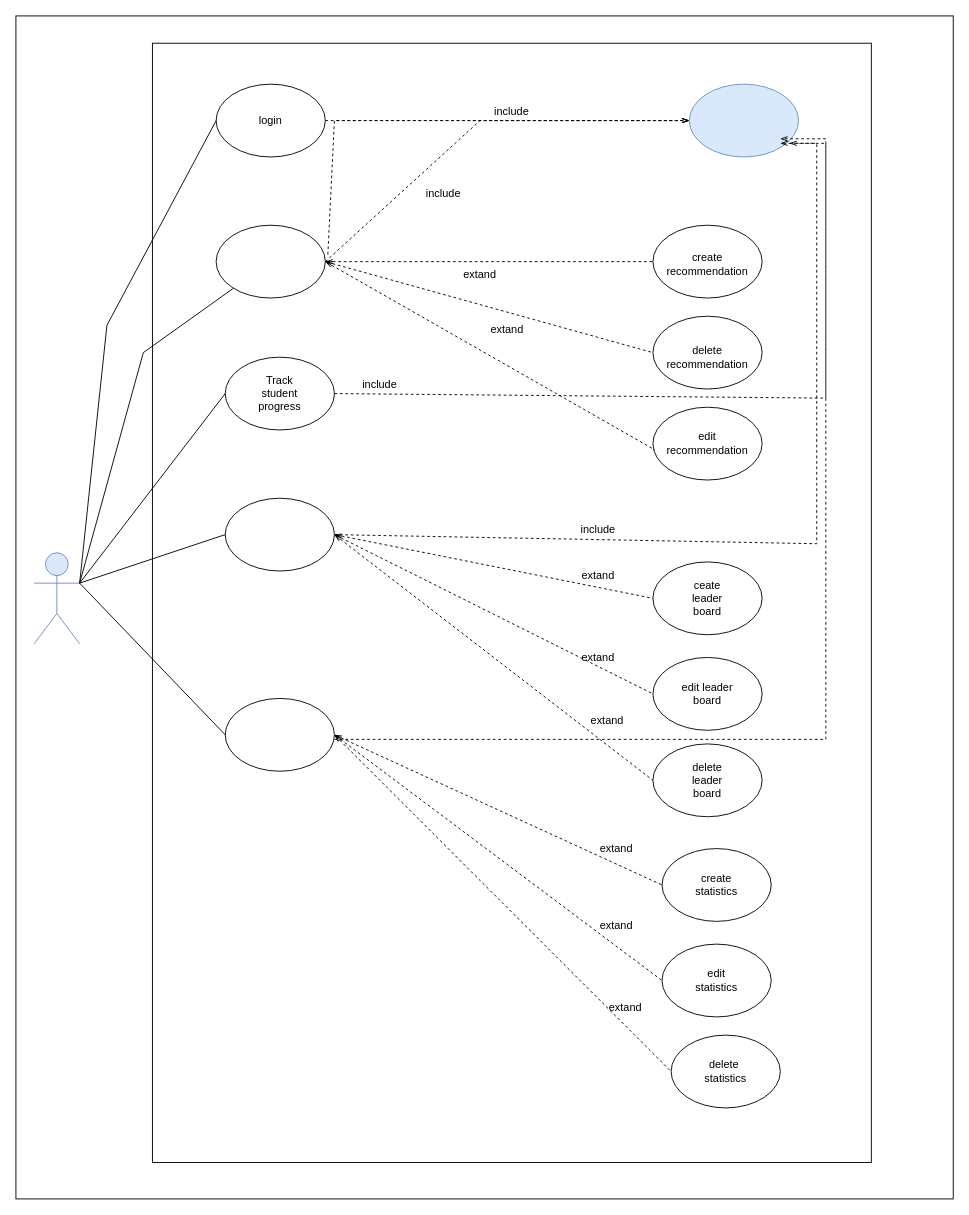
Some shapes in this 969 by 1215 pixel diagram are drawn without their labels. The box of each missing label's shape, as (x1, y1, x2, y2) in pixels:
analyst: (33, 552, 80, 644)
authetificate: (688, 83, 799, 157)
consult leader board: (224, 497, 334, 571)
consult recommendation: (215, 224, 325, 298)
consult statistics: (224, 698, 334, 771)
